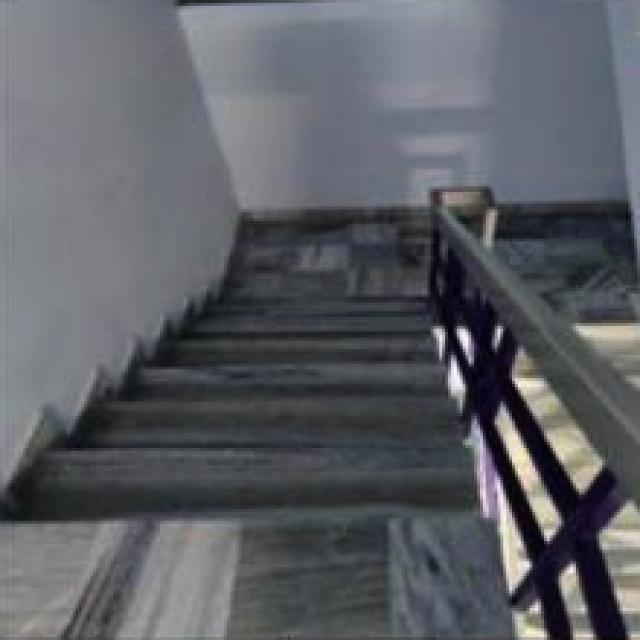downstair: (19, 370, 446, 577)
